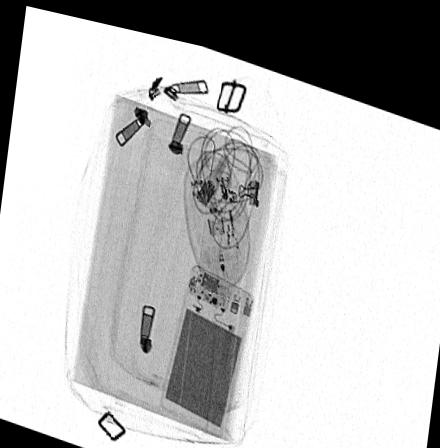Powerbank: (158, 254, 254, 425)
